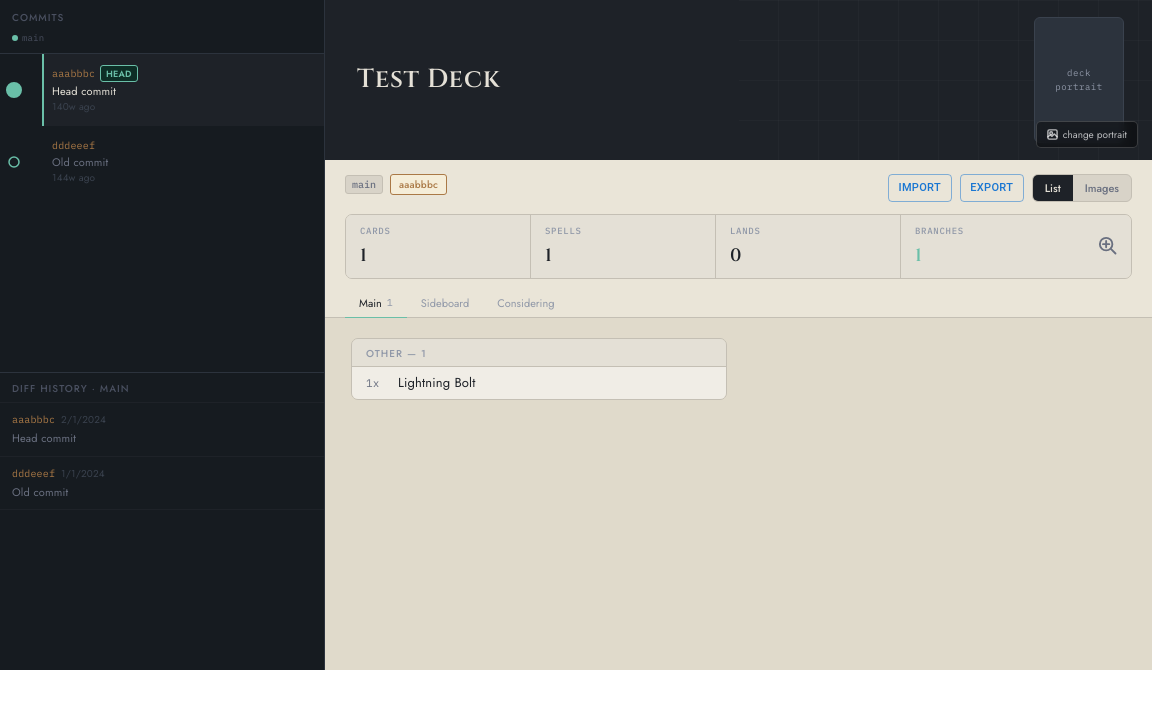
Scenario: Decklist — commit history navigation › "Return to HEAD" button dismisses the history banner
Click the text "Old commit" below "140w ago" at (80, 162), box x1=52 y1=154 x2=108 y2=170
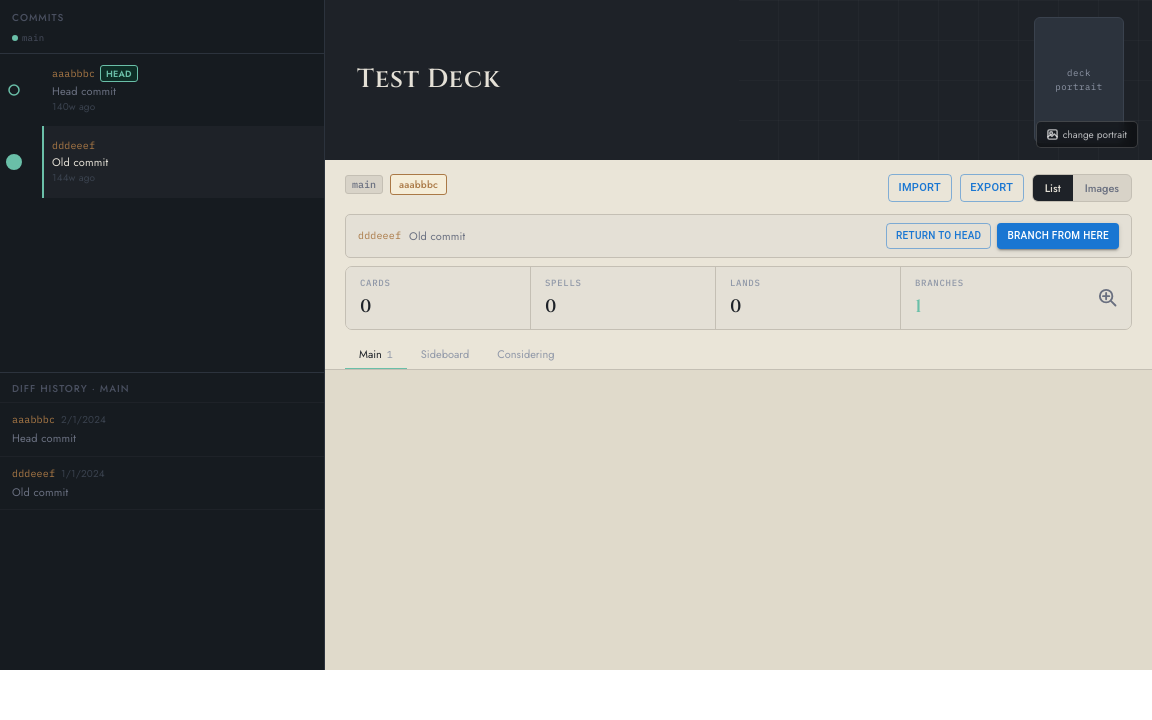
Check: the button "Return to HEAD" is shown
Click the button "Return to HEAD" at (939, 236), box x1=886 y1=223 x2=991 y2=248
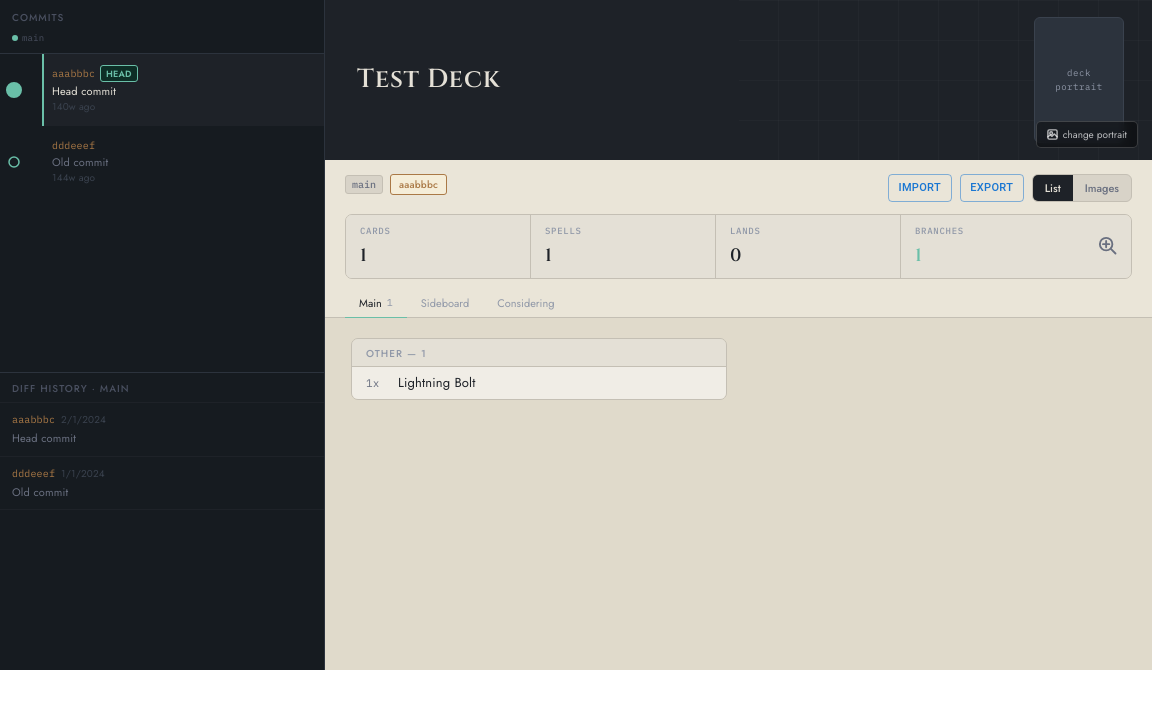
Check: the button "Return to HEAD" is gone
